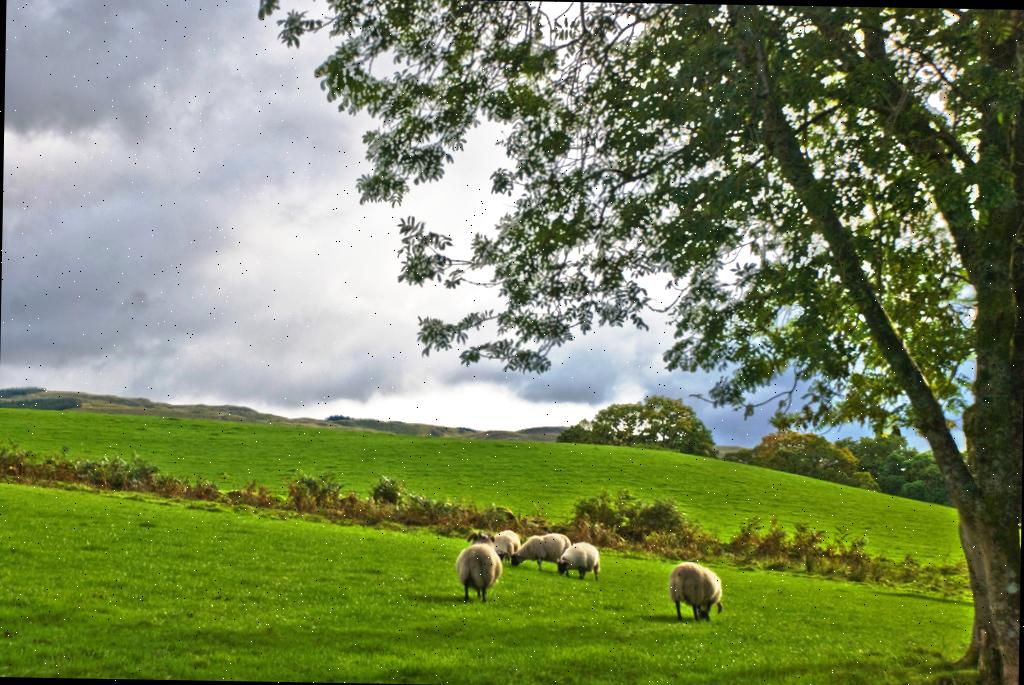Sheep: (454, 530, 506, 606), (673, 562, 721, 621), (511, 536, 575, 568), (557, 542, 604, 578), (492, 526, 522, 560)
